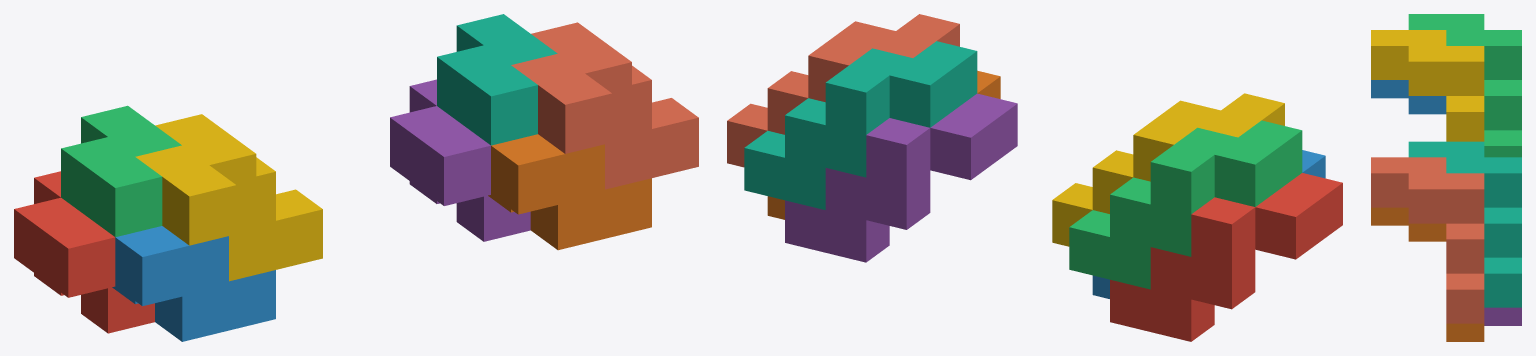
Rendered from tiling.obj.
3 renders of one model, left to right at view 1: azimuth 30°, elevation 25°; view 2: azimuth 150°, elevation 25°; view 3: azimuth 270°, elevation 25°, orthographic. The views are drawn at different scales.
Parts seen in each view (by area): view 1: copy_1_domain_4, copy_1_domain_8, copy_1_domain_6, copy_1_domain_2, copy_1_domain_1, copy_1_domain_5, copy_1_domain_3, copy_1_domain_7; view 2: copy_1_domain_7, copy_1_domain_3, copy_1_domain_1, copy_1_domain_5, copy_1_domain_8, copy_1_domain_4, copy_1_domain_2, copy_1_domain_6; view 3: copy_1_domain_8, copy_1_domain_4, copy_1_domain_7, copy_1_domain_3, copy_1_domain_6, copy_1_domain_2, copy_1_domain_5.
Boxes of the visible parts, left/top/right/bottom form: copy_1_domain_4: left=135, top=114, right=322, bottom=281; copy_1_domain_8: left=511, top=22, right=698, bottom=189; copy_1_domain_6: left=488, top=134, right=651, bottom=250; copy_1_domain_2: left=112, top=226, right=275, bottom=341; copy_1_domain_1: left=14, top=171, right=154, bottom=333; copy_1_domain_5: left=390, top=79, right=530, bottom=241; copy_1_domain_3: left=61, top=105, right=181, bottom=237; copy_1_domain_7: left=437, top=14, right=557, bottom=145; copy_1_domain_7: left=744, top=41, right=977, bottom=209; copy_1_domain_3: left=1069, top=120, right=1302, bottom=289; copy_1_domain_1: left=1110, top=173, right=1342, bottom=341; copy_1_domain_5: left=785, top=93, right=1017, bottom=262; copy_1_domain_8: left=727, top=14, right=959, bottom=167; copy_1_domain_4: left=1052, top=93, right=1284, bottom=246; copy_1_domain_2: left=1092, top=150, right=1325, bottom=298; copy_1_domain_6: left=767, top=70, right=1000, bottom=219; copy_1_domain_8: left=1371, top=157, right=1484, bottom=323; copy_1_domain_4: left=1371, top=30, right=1484, bottom=141; copy_1_domain_7: left=1408, top=141, right=1521, bottom=307; copy_1_domain_3: left=1408, top=14, right=1521, bottom=157; copy_1_domain_6: left=1371, top=207, right=1484, bottom=341; copy_1_domain_2: left=1371, top=80, right=1446, bottom=114; copy_1_domain_5: left=1484, top=307, right=1521, bottom=325.
Size of the model in its own units: 14 by 4 by 4.
